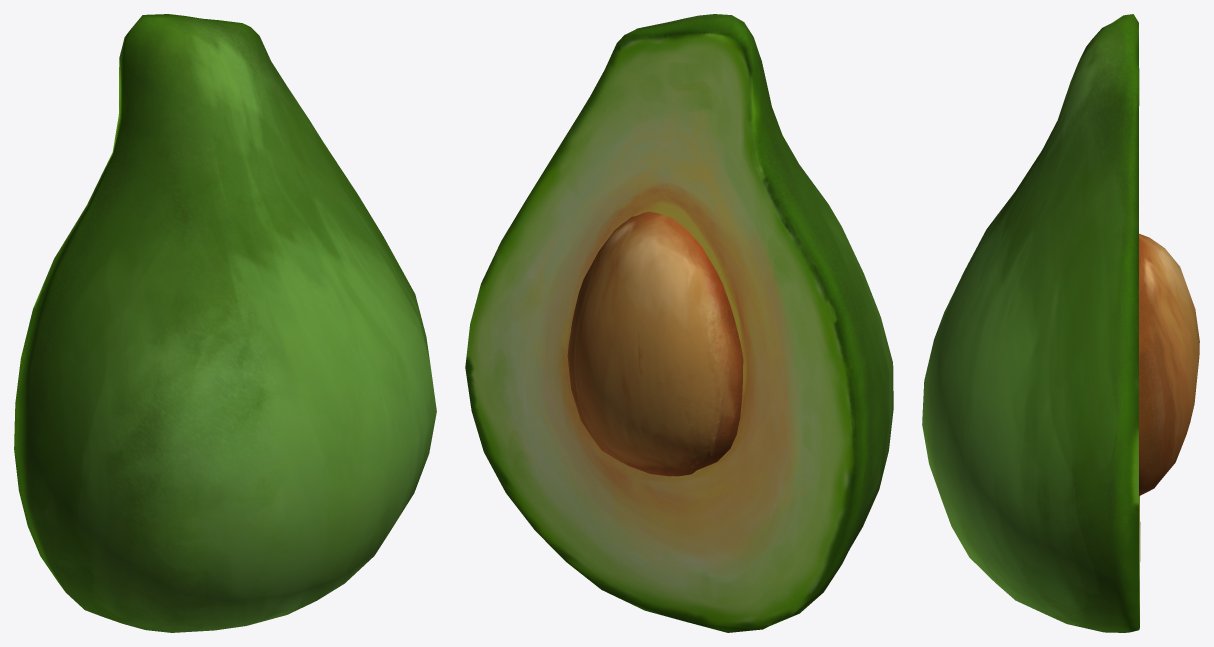
Rendered from Avocado.glb.
3 views of the same model, side by side, from view 1: azimuth 30°, elevation 25°; view 2: azimuth 150°, elevation 25°; view 3: azimuth 270°, elevation 25° (orthographic). The views are drawn at different scales.
Parts seen in each view (by area): view 1: Avocado; view 2: Avocado; view 3: Avocado.
Boxes of the visible parts, <box> form: Avocado: <box>14,14,436,632</box>; Avocado: <box>465,14,893,632</box>; Avocado: <box>922,14,1199,632</box>.
Size of the model in its own units: 1.06 by 1.57 by 0.6905.
1 material, 1 textured.
